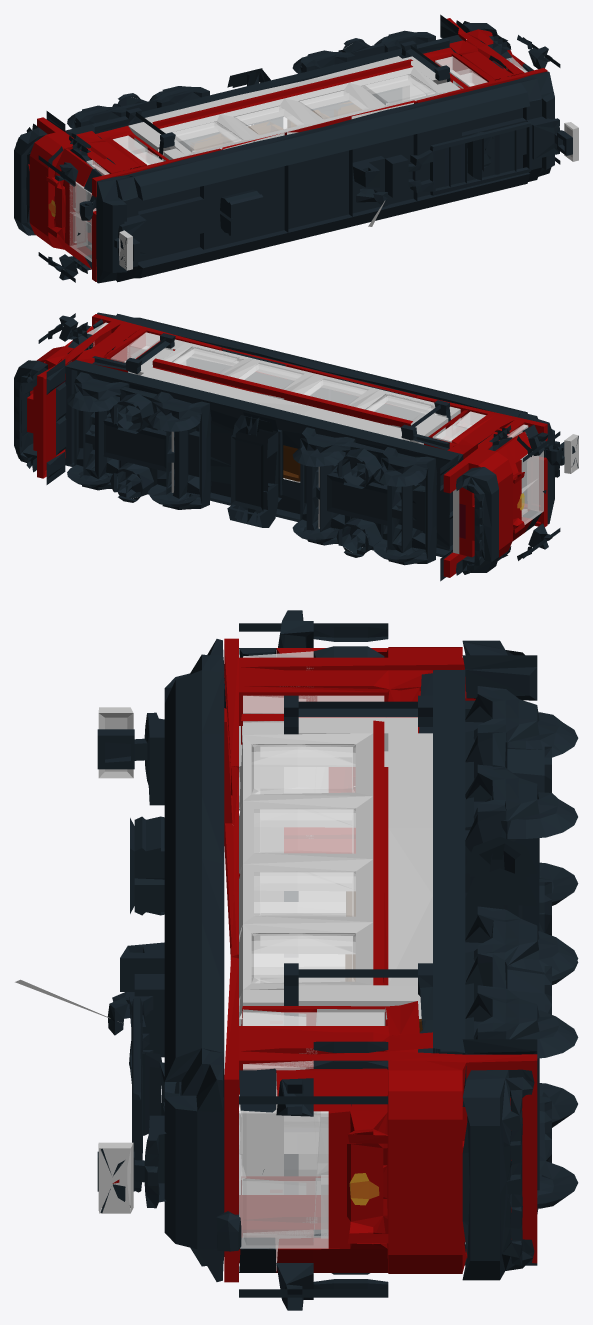
Rendered from tram-2.glb.
The picture shows the model from 3 angles, top to bottom: view 1: azimuth 30°, elevation 25°; view 2: azimuth 150°, elevation 25°; view 3: azimuth 270°, elevation 25°; orthographic projection. The views are drawn at different scales.
Size of the model in its own units: 245 by 60.34 by 121.
